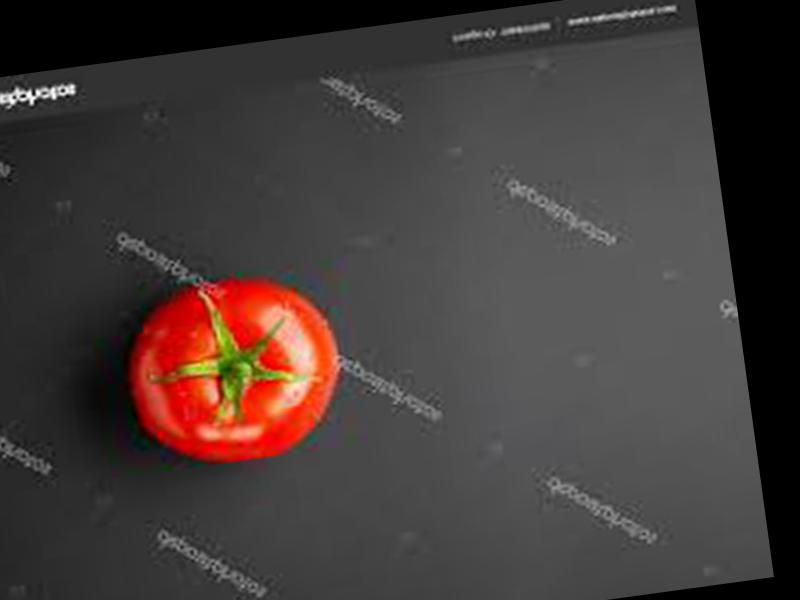Tomato: (119, 265, 354, 476)
